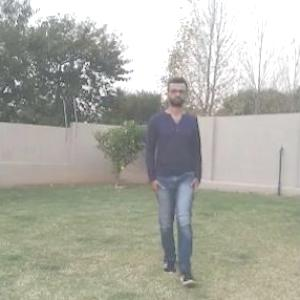follow: (154, 94, 198, 270)
